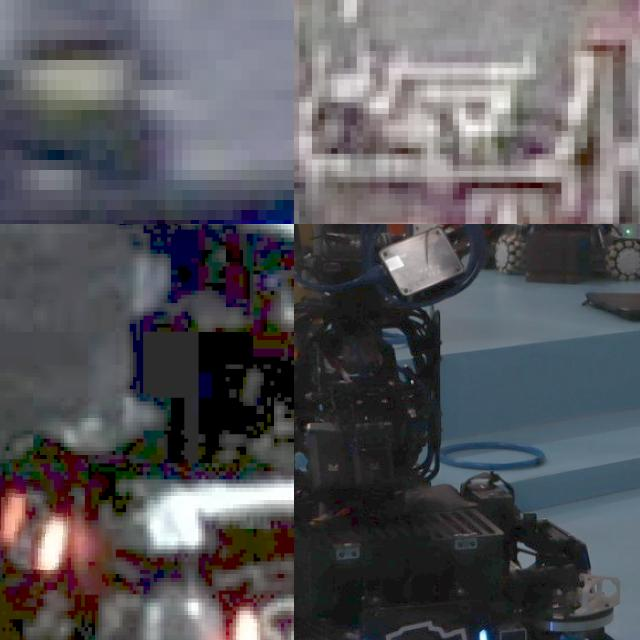Bs: (355, 617, 493, 640)
Rs: (0, 479, 67, 569), (229, 598, 294, 640)
